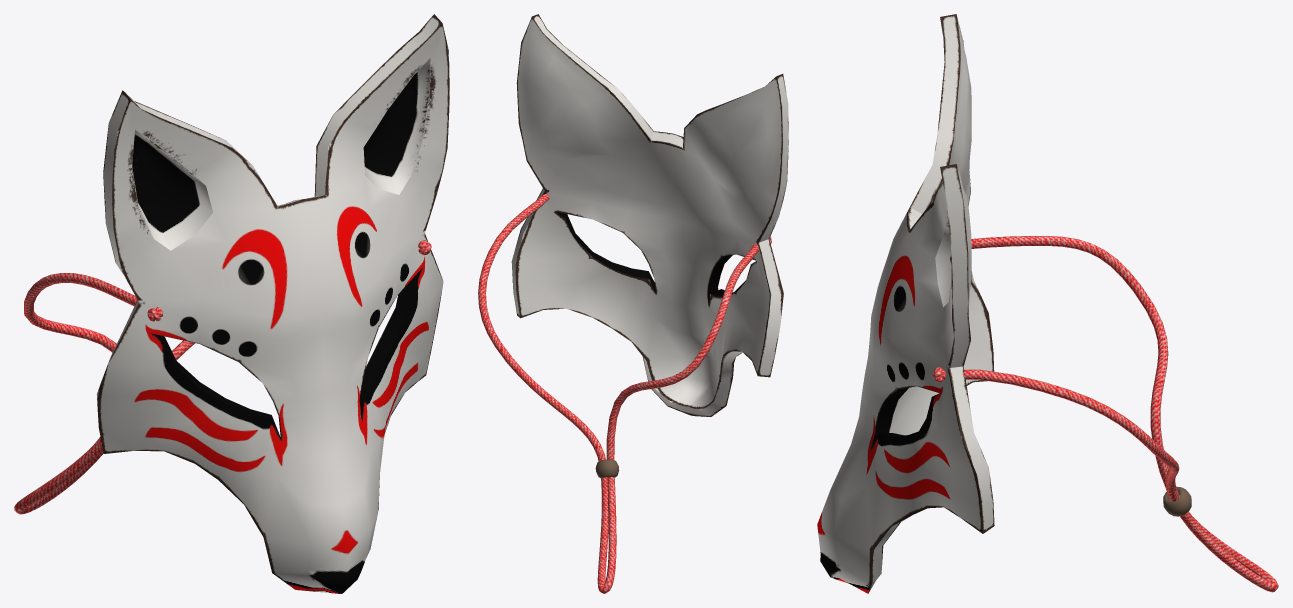
File: inari.glb
The picture shows the model from 3 angles, left to right: view 1: azimuth 30°, elevation 25°; view 2: azimuth 150°, elevation 25°; view 3: azimuth 270°, elevation 25°; orthographic projection. The views are drawn at different scales.
Parts seen in each view (by area): view 1: Mask_LOW; view 2: Mask_LOW; view 3: Mask_LOW.
Boxes of the visible parts, x1,y1,x2,y2 form: Mask_LOW: [14, 14, 449, 593]; Mask_LOW: [478, 14, 788, 593]; Mask_LOW: [817, 14, 1278, 593].
Bounding box in the file's own units: 1.29 × 2 × 1.53.
Materials: 1 (1 with a texture image).
